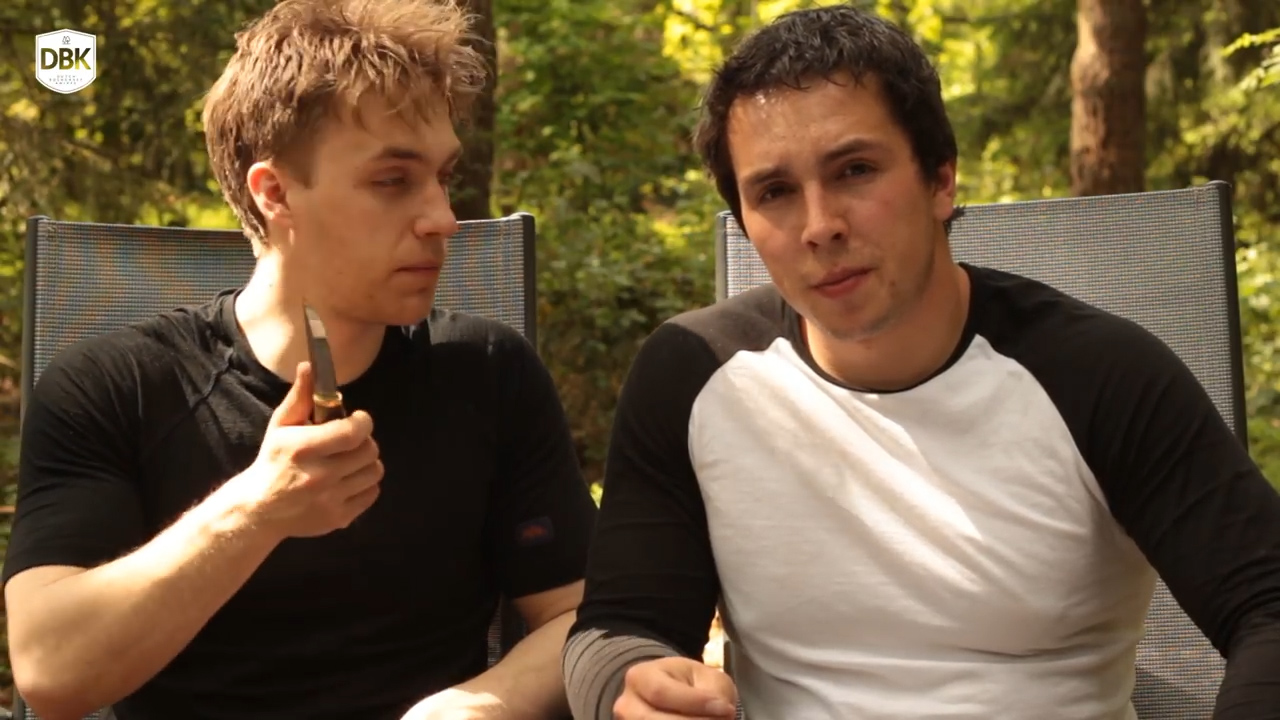knife: (255, 276, 392, 492)
